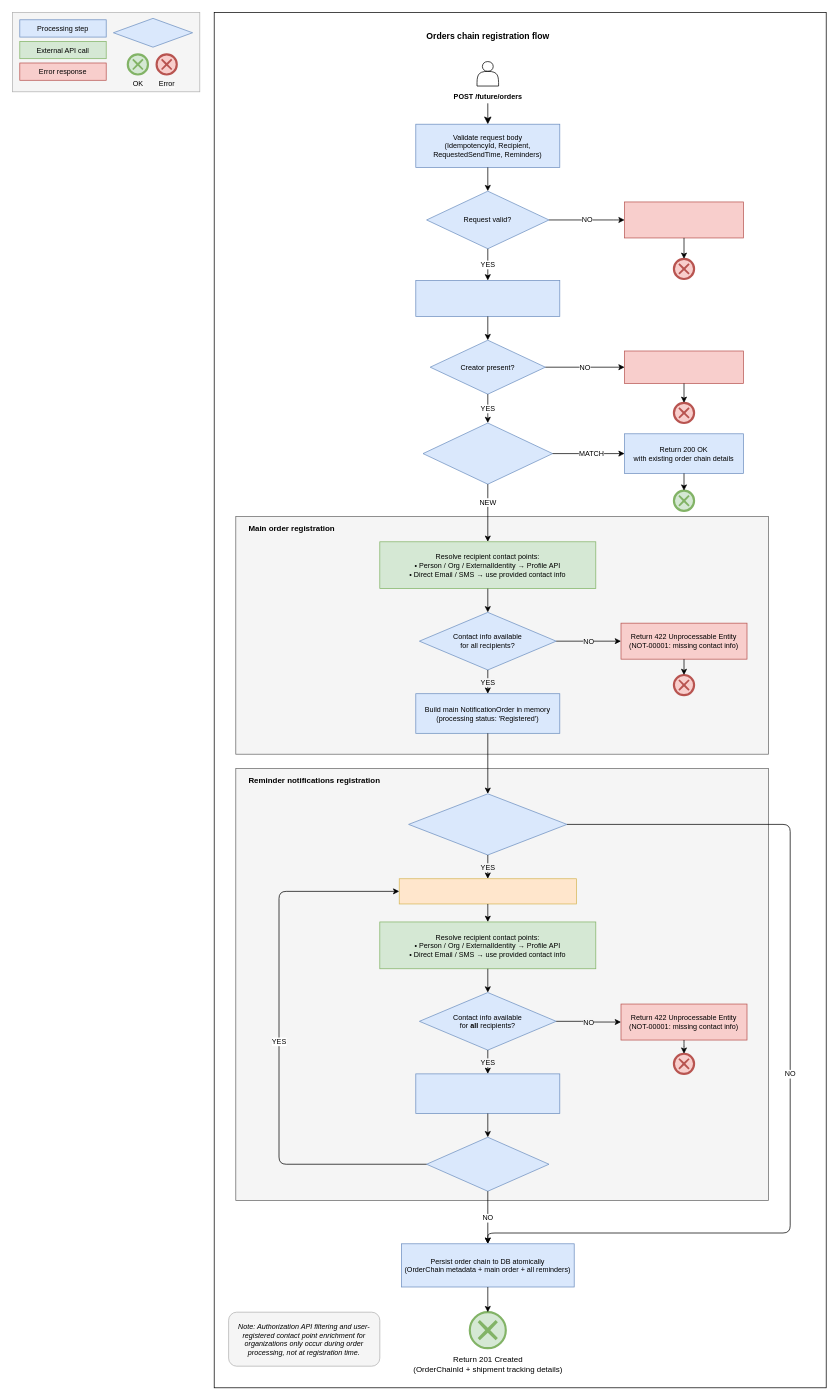
Some shapes in this 839 by 1400 pixel diagram are drawn without their labels. Here are the shapes that lost their labels. From the top down, the centre of each, then its label:
At pixel 153 32: "Decision".
At pixel 683 219: "Return 400 Bad Request with validation error details".
At pixel 487 298: "Extract creator (org) from HTTP context".
At pixel 683 366: "Return 403 Forbidden".
At pixel 487 453: "Existing order for (creator + idempotencyId)?".
At pixel 487 824: "Order includes reminder notifications?".
At pixel 487 891: "For each reminder (processed sequentially):".
At pixel 487 1093: "Build reminder NotificationOrder in memory (processing status: 'Registered')".
At pixel 487 1164: "More reminders to process?".
